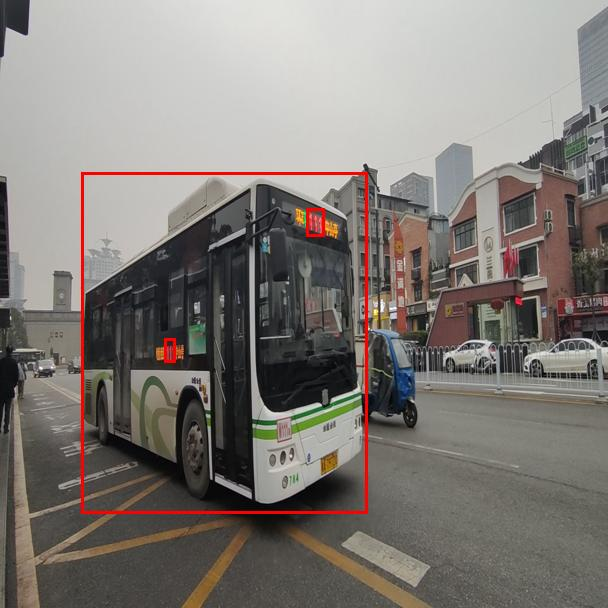bus: (81, 172, 367, 513)
screen: (306, 208, 324, 236), (164, 338, 175, 362)
